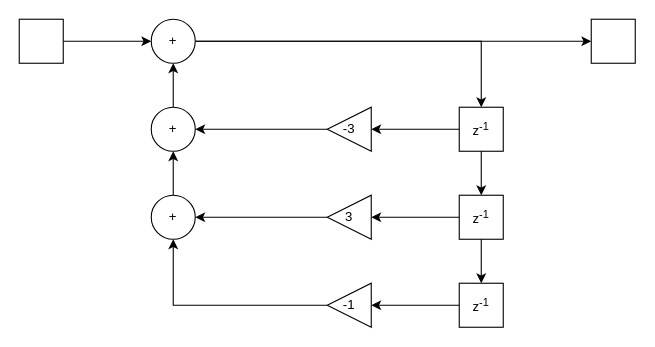
Image size: 655x347. Some labels were removed from this diagram. The shapes that lost their labels are listed below. From the top down, each one's box as (x1, y1, x2, y2) in pixels, then its label:
(18, 18, 63, 63): X(z)
(590, 18, 635, 63): Y(z)
